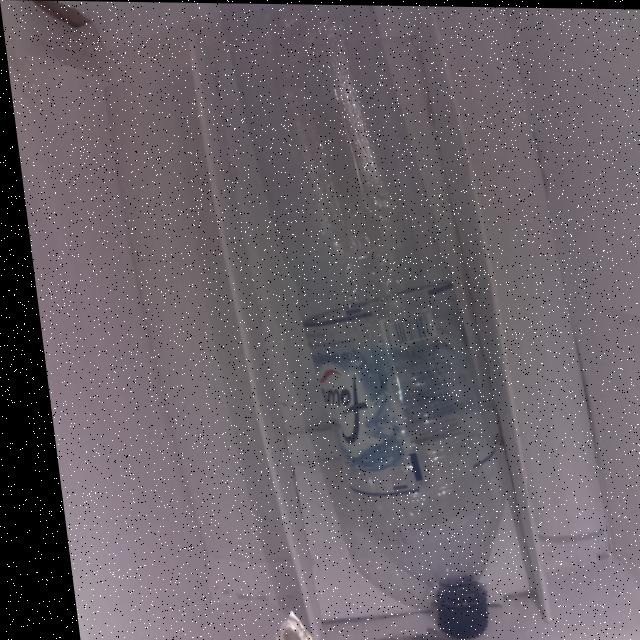litter: (407, 574, 490, 640)
